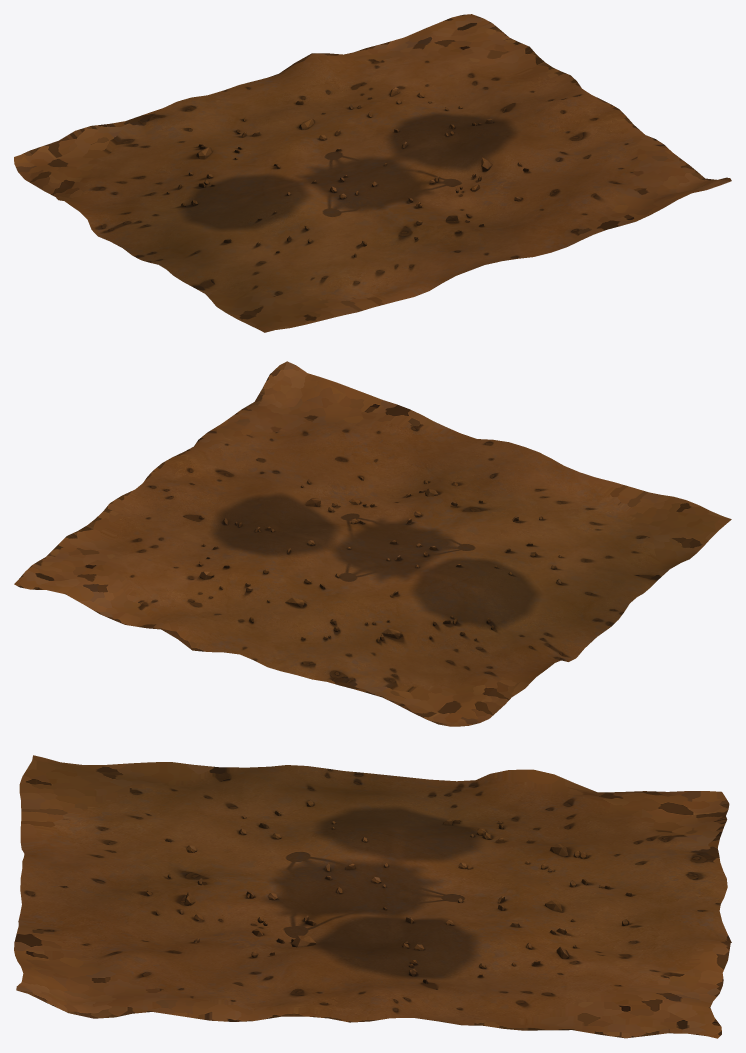
File: ground.glb
3 renders of one model, top to bottom at view 1: azimuth 30°, elevation 25°; view 2: azimuth 150°, elevation 25°; view 3: azimuth 270°, elevation 25°, orthographic. The views are drawn at different scales.
Parts seen in each view (by area): view 1: newground:Mesh1; view 2: newground:Mesh1; view 3: newground:Mesh1.
Boxes of the visible parts, bbox=[...] form: newground:Mesh1: bbox=[14, 14, 731, 332]; newground:Mesh1: bbox=[14, 361, 731, 726]; newground:Mesh1: bbox=[14, 755, 731, 1038].
Bounding box in the file's own units: 6.95 × 0.9812 × 6.97.
1 material, 1 textured.
